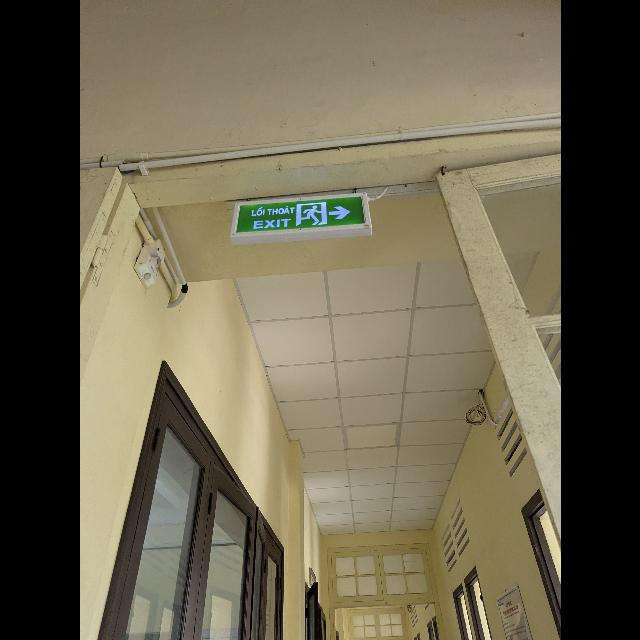exit: (234, 196, 366, 234)
